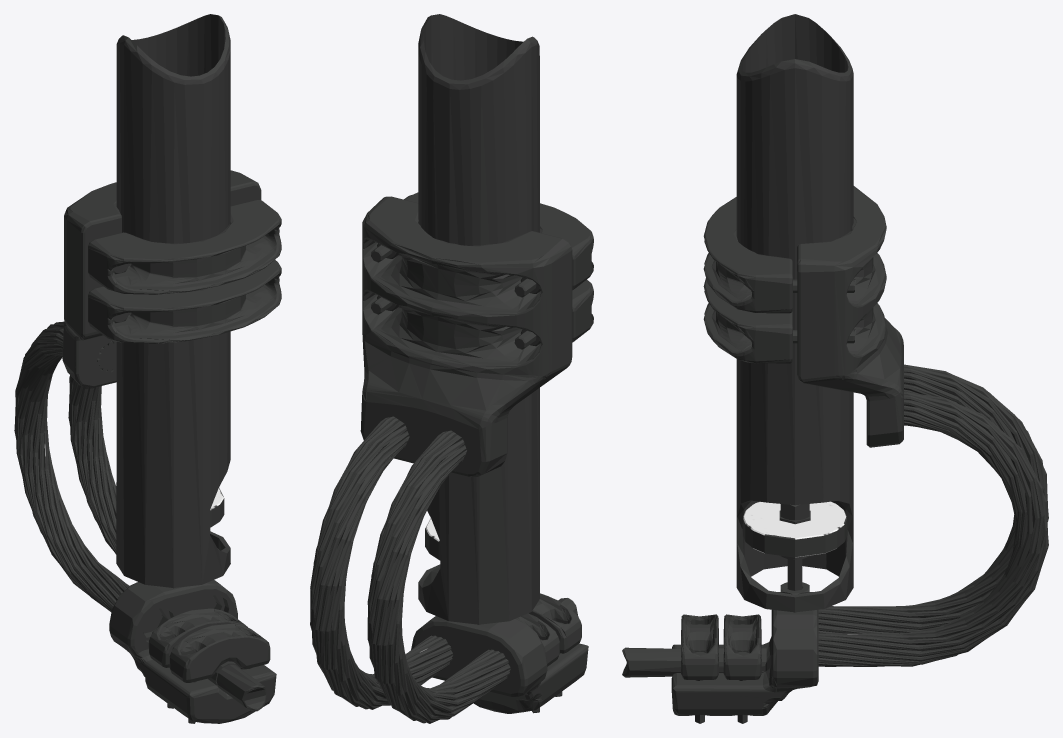
File: flexible_90_tubo_pin10.gltf
The picture shows the model from 3 angles, left to right: view 1: azimuth 30°, elevation 25°; view 2: azimuth 150°, elevation 25°; view 3: azimuth 270°, elevation 25°; orthographic projection. The views are drawn at different scales.
Visible parts, largest first — view 1: Gt7Sj3Sa; view 2: Gt7Sj3Sa; view 3: Gt7Sj3Sa.
Boxes of the visible parts, box(x1,y1,x2,y2) form: Gt7Sj3Sa: box(14, 14, 281, 723); Gt7Sj3Sa: box(310, 14, 593, 723); Gt7Sj3Sa: box(622, 14, 1048, 723).
Bounding box in the file's own units: 0.5506 × 1.92 × 1.11.
Materials: 1 (1 with a texture image).
